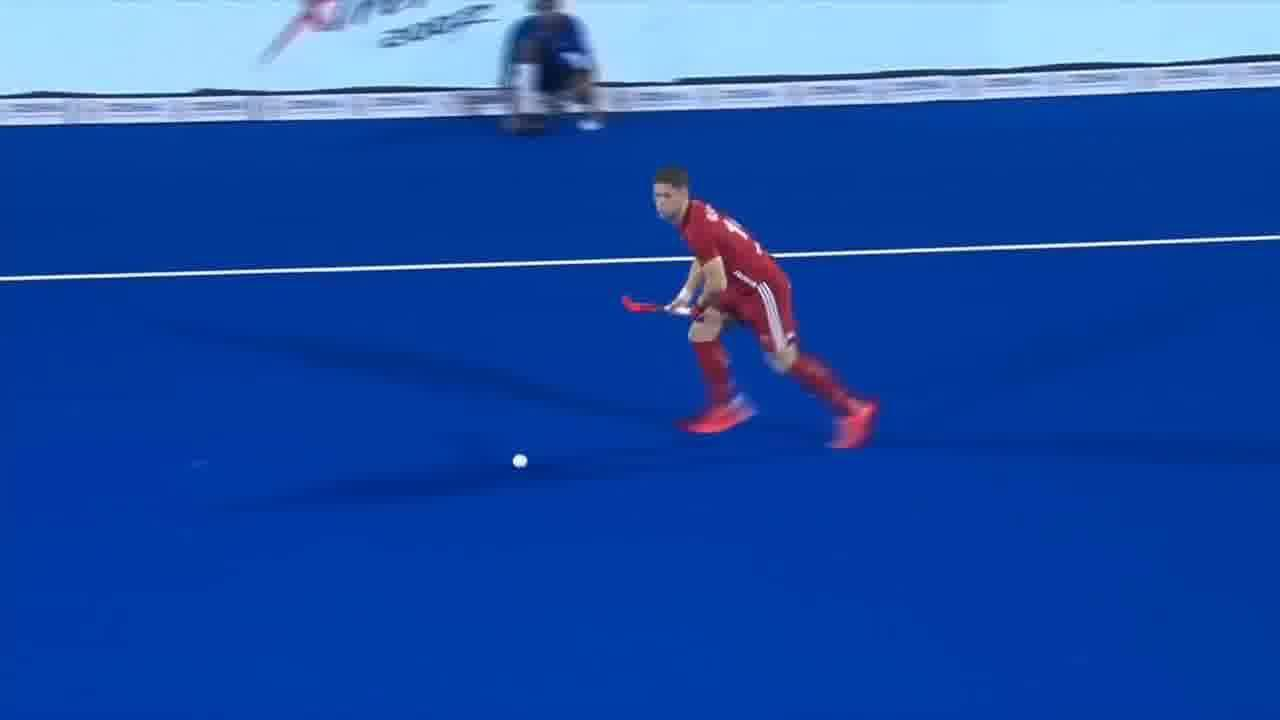ball: (508, 447, 537, 477)
